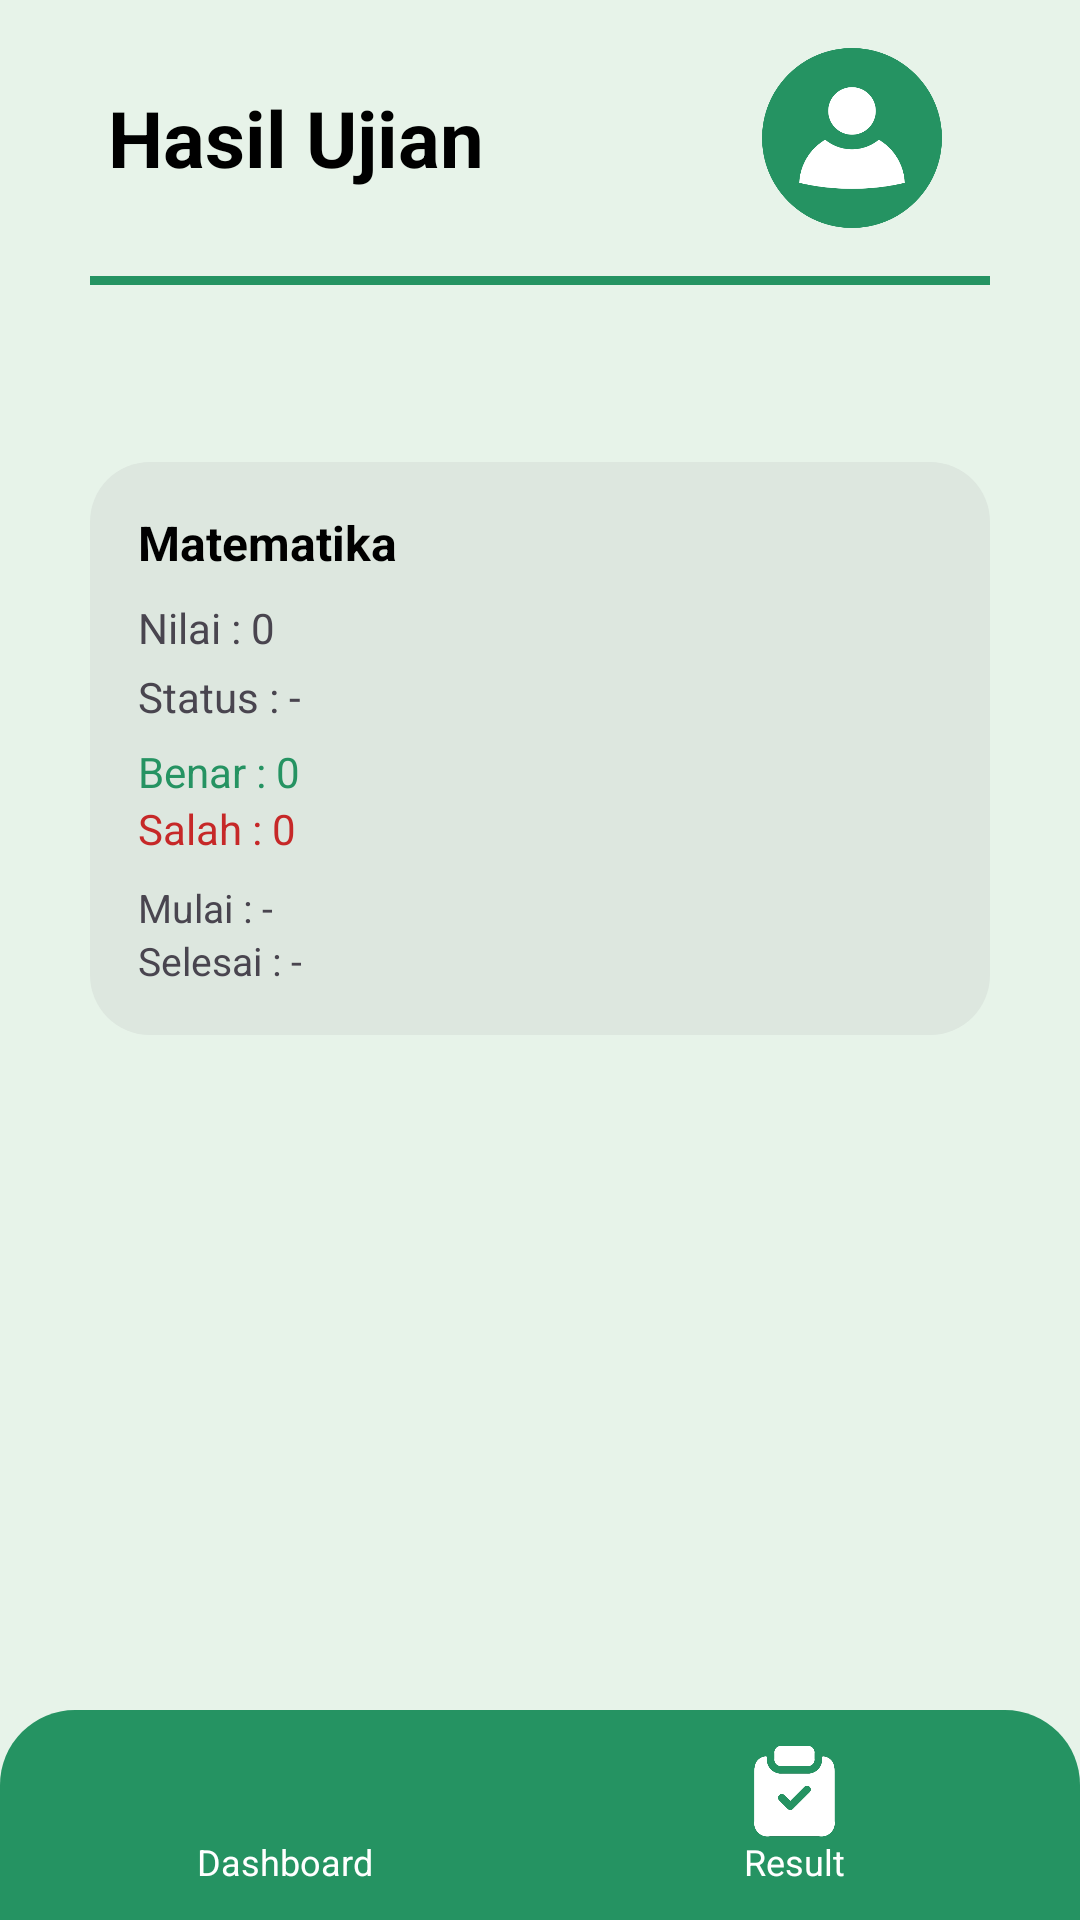

Icons on this 1080 x 1920 Android screen, each with the point to tap as (x,y):
profile user: (852,138)
